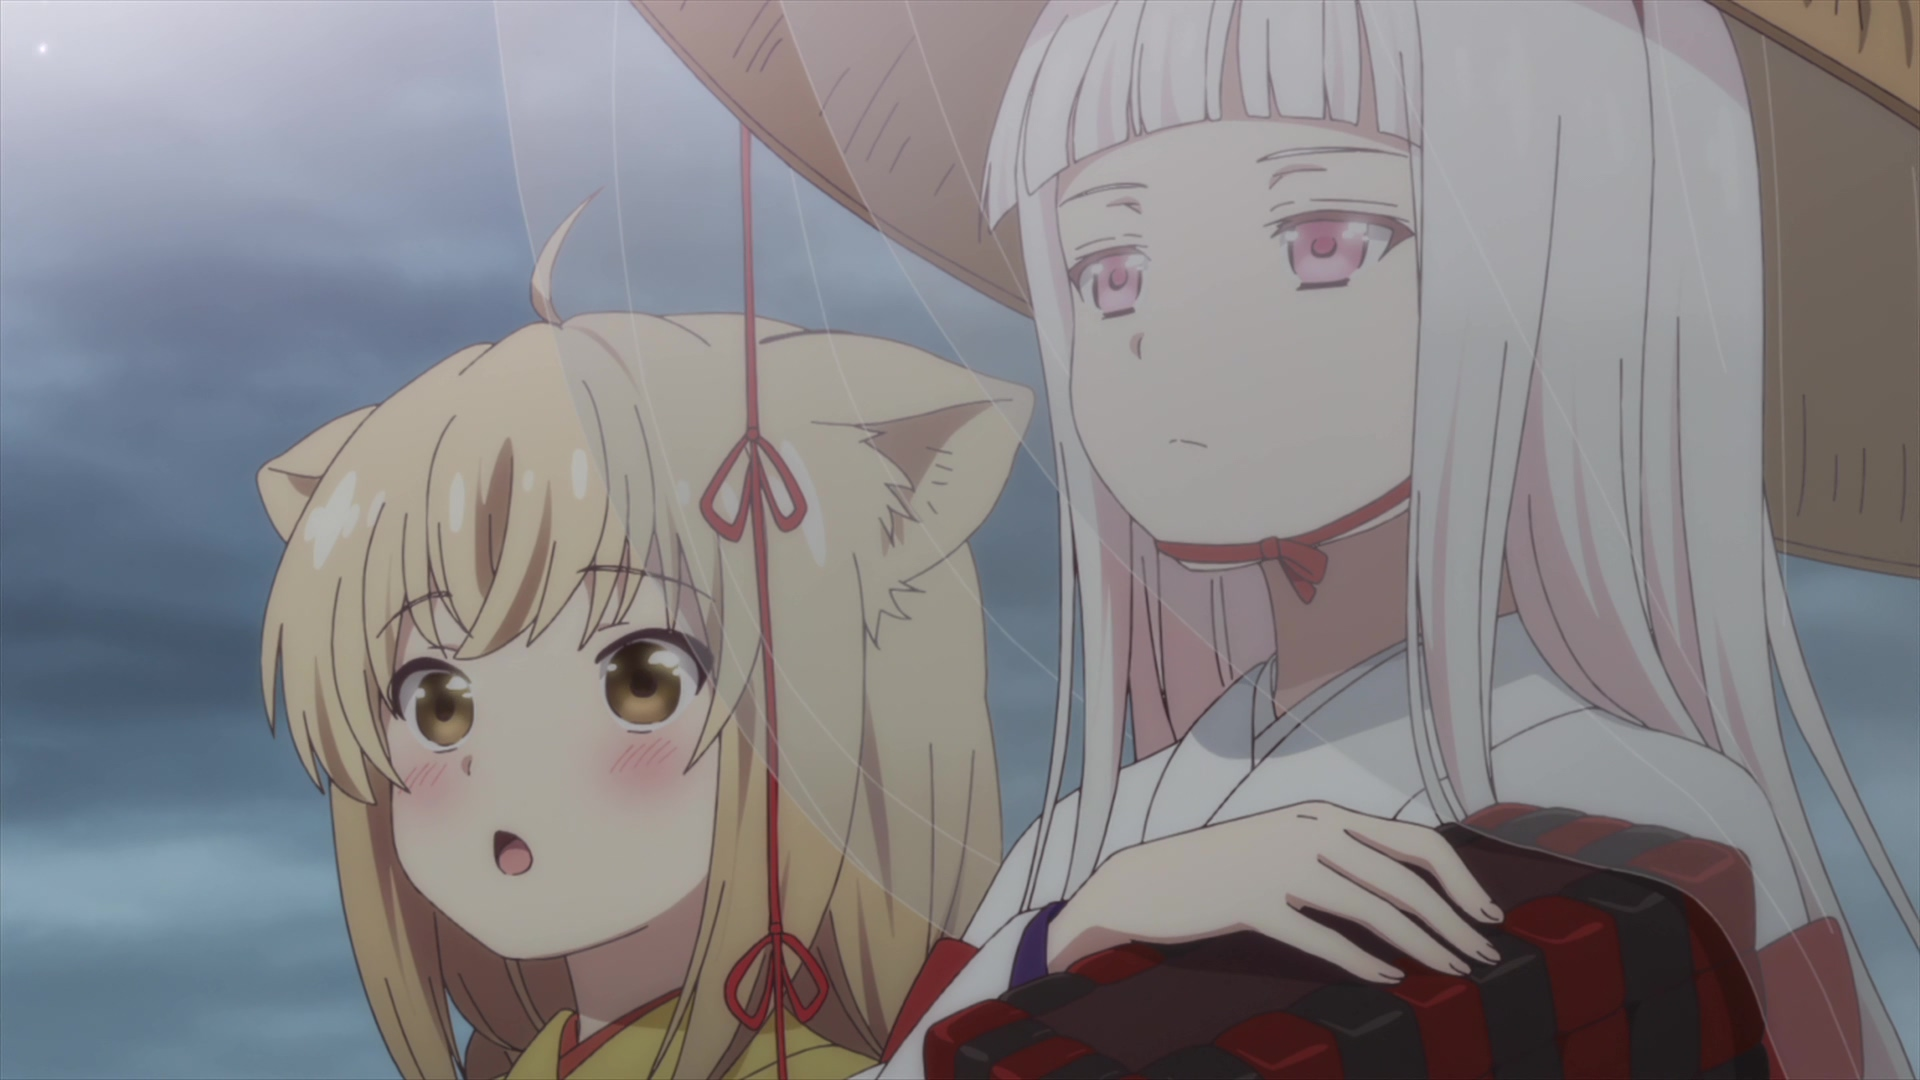其他: (492, 1, 1920, 1080)
柚: (258, 186, 1033, 1080)
